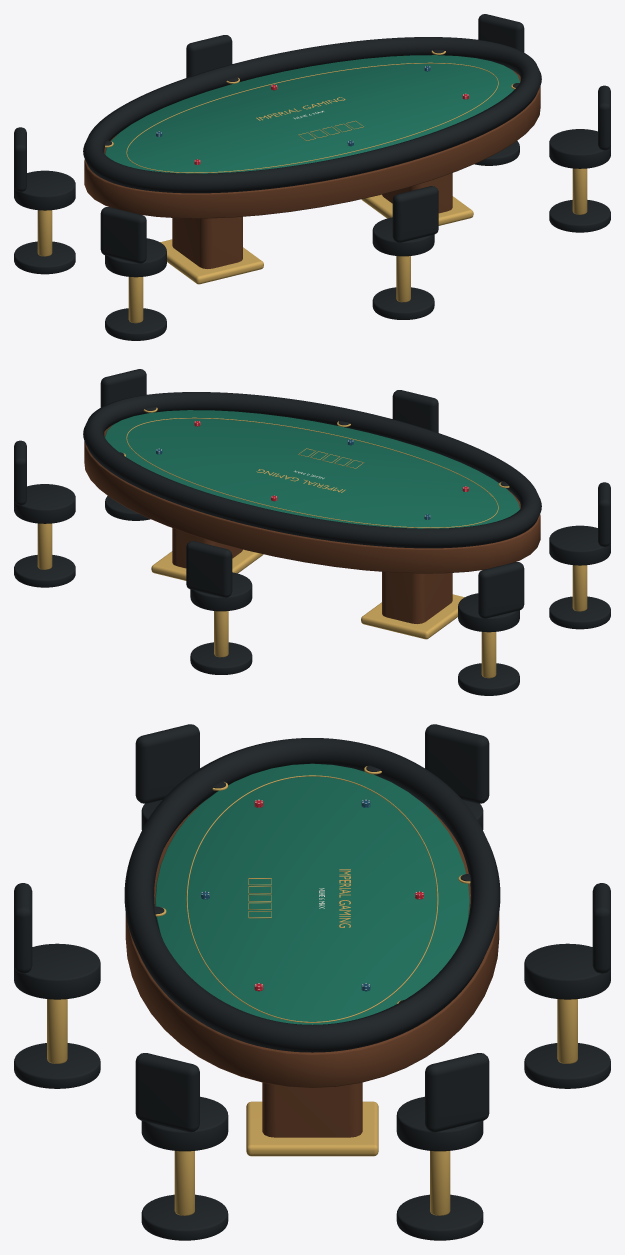
The model's file is NLHE_6.glb.
3 views of the same model, one above another, from view 1: azimuth 30°, elevation 25°; view 2: azimuth 150°, elevation 25°; view 3: azimuth 270°, elevation 25° (orthographic). The views are drawn at different scales.
Visible parts, largest first — view 1: Emerald playing surface, Padded perimeter rail, Walnut table cabinet, Pedestal, Seat 05 backrest, Seat 00 backrest, Seat 01 cushion, Seat 04 cushion, Pedestal brass shoe, Seat 01 foot, Seat 00 foot, Seat 04 foot (+15 smaller); view 2: Emerald playing surface, Padded perimeter rail, Walnut table cabinet, Pedestal, Seat 04 backrest, Seat 03 backrest, Seat 02 cushion, Seat 05 cushion, Pedestal brass shoe, Seat 02 foot, Seat 03 foot, Seat 05 foot (+15 smaller); view 3: Emerald playing surface, Padded perimeter rail, Walnut table cabinet, Pedestal.001, Seat 01 backrest, Seat 02 backrest, Seat 04 backrest, Seat 05 backrest, Pedestal brass shoe.001, Seat 00 cushion, Seat 03 cushion, Seat 01 foot (+12 smaller).
Boxes of the visible parts, x1,y1,x2,y2 form: Emerald playing surface: (105,55,519,173); Padded perimeter rail: (83,37,541,193); Walnut table cabinet: (84,70,540,218); Pedestal: (172,216,242,268); Seat 05 backrest: (100,207,146,263); Seat 00 backrest: (392,186,438,242); Seat 01 cushion: (549,129,610,168); Seat 04 cushion: (14,170,75,210); Pedestal brass shoe: (160,239,263,284); Seat 01 foot: (549,200,610,232); Seat 00 foot: (372,287,434,319); Seat 04 foot: (14,241,75,274); Emerald playing surface: (105,410,519,528); Padded perimeter rail: (83,392,541,548); Walnut table cabinet: (84,425,540,573); Pedestal: (382,571,452,623); Seat 04 backrest: (478,562,524,618); Seat 03 backrest: (186,541,232,597); Seat 02 cushion: (14,484,75,523); Seat 05 cushion: (549,525,610,565); Pedestal brass shoe: (361,594,464,639); Seat 02 foot: (14,555,75,587); Seat 03 foot: (190,642,252,674); Seat 05 foot: (549,596,610,629); Emerald playing surface: (155,763,469,1024); Padded perimeter rail: (124,738,500,1052); Walnut table cabinet: (125,799,499,1087); Pedestal.001: (262,1082,362,1137); Seat 01 backrest: (135,1053,199,1132); Seat 02 backrest: (425,1053,489,1132); Seat 04 backrest: (425,724,489,803); Seat 05 backrest: (135,724,199,803); Pedestal brass shoe.001: (246,1101,378,1156); Seat 00 cushion: (14,943,100,999); Seat 03 cushion: (524,943,610,999); Seat 01 foot: (141,1194,228,1240).
Bounding box in the file's own units: 3.61 × 0.9175 × 2.62.
